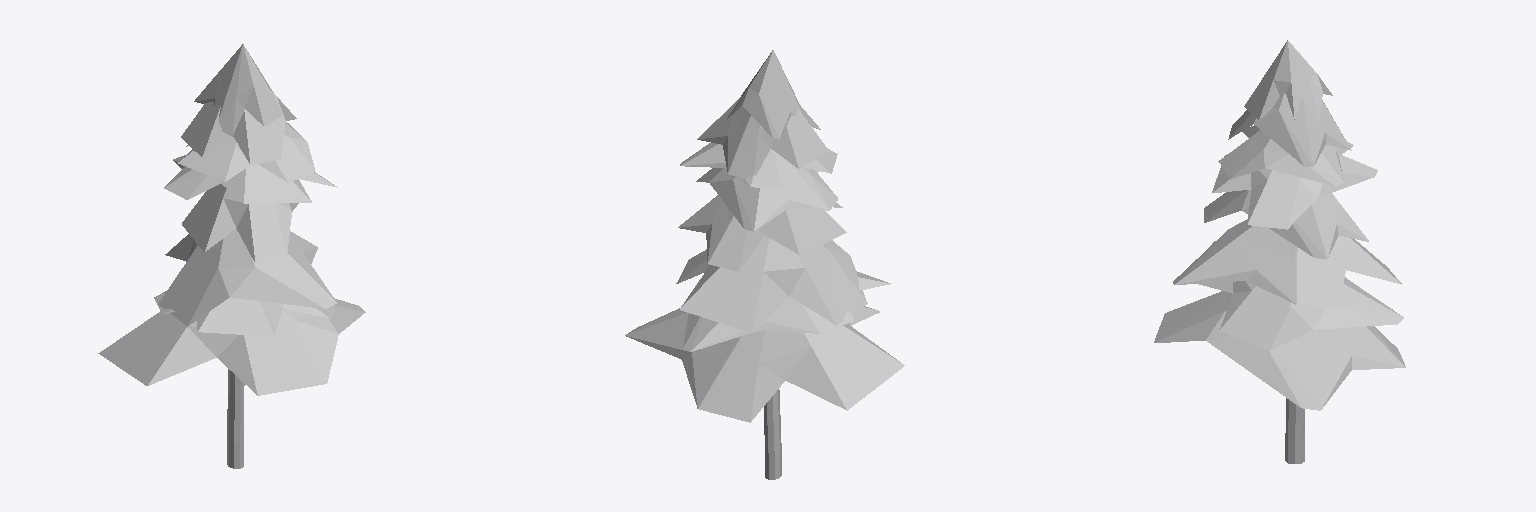
The model's file is Tree3.obj.
The picture shows the model from 3 angles: view 1: azimuth 30°, elevation 25°; view 2: azimuth 150°, elevation 25°; view 3: azimuth 270°, elevation 25°; orthographic projection.
Parts seen in each view (by area): view 1: Tree3_Icosphere.008; view 2: Tree3_Icosphere.008; view 3: Tree3_Icosphere.008.
Boxes of the visible parts, <box> form: Tree3_Icosphere.008: <box>98,44,365,468</box>; Tree3_Icosphere.008: <box>625,50,904,479</box>; Tree3_Icosphere.008: <box>1154,40,1405,463</box>.
Size of the model in its own units: 6.68 by 10.97 by 5.95.